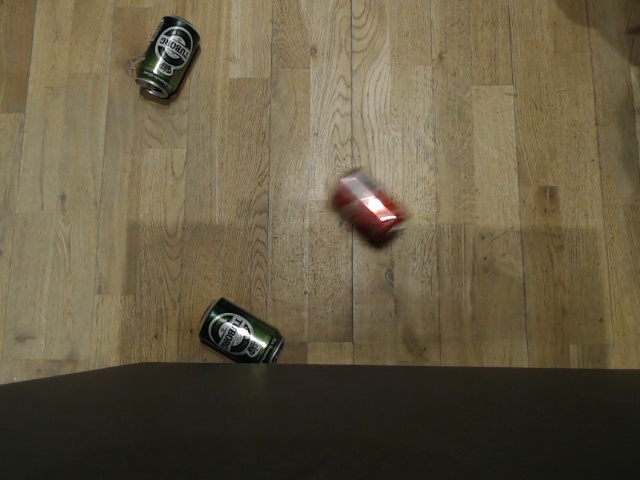beer: (193, 294, 286, 368), (133, 14, 204, 102)
cola: (329, 167, 407, 249)
